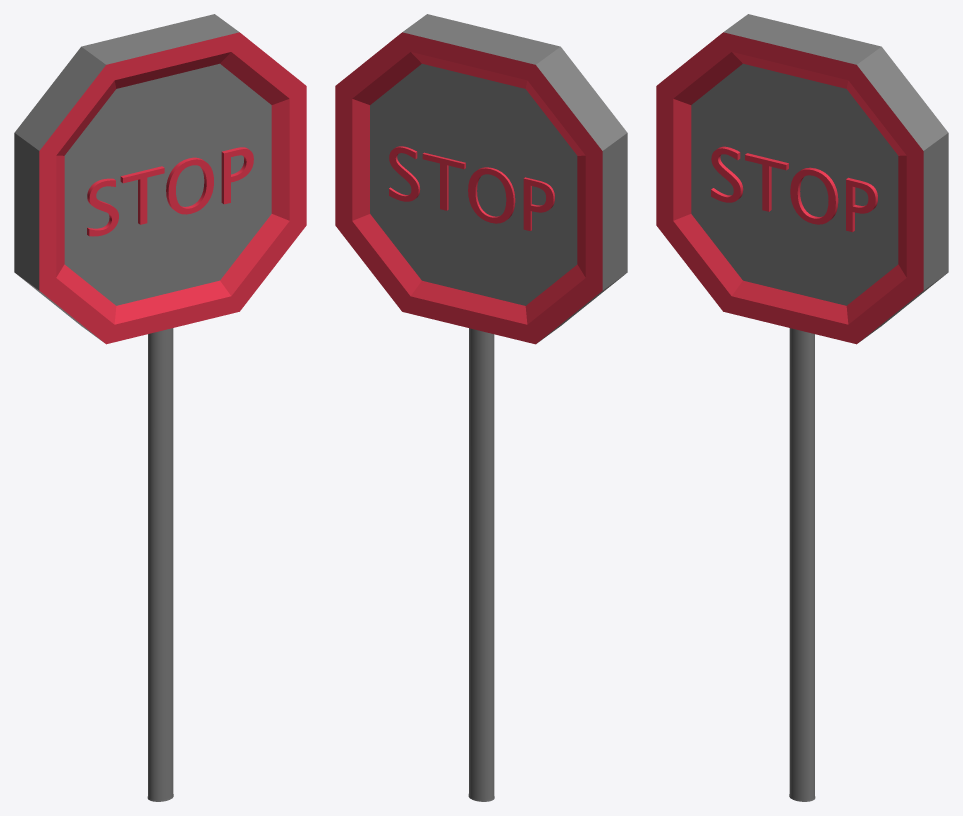
The model's file is StopbordM.fbx.
3 renders of one model, left to right at view 1: azimuth 30°, elevation 25°; view 2: azimuth 150°, elevation 25°; view 3: azimuth 330°, elevation 25°, orthographic.
Visible parts, largest first — view 1: STOPbord, Stop_paal, STOPtext; view 2: STOPbord, Stop_paal, STOPtext2; view 3: STOPbord, Stop_paal, STOPtext.
Boxes of the visible parts, x1,y1,x2,y2 form: STOPbord: (14,14,306,344); Stop_paal: (147,328,173,801); STOPtext: (87,147,253,236); STOPbord: (335,14,627,344); Stop_paal: (468,328,494,801); STOPtext2: (389,146,554,230); STOPbord: (656,14,948,344); Stop_paal: (789,328,815,801); STOPtext: (711,146,877,232).
Bounding box in the file's own units: 229 × 620 × 37.05.
1 material, 1 textured.
